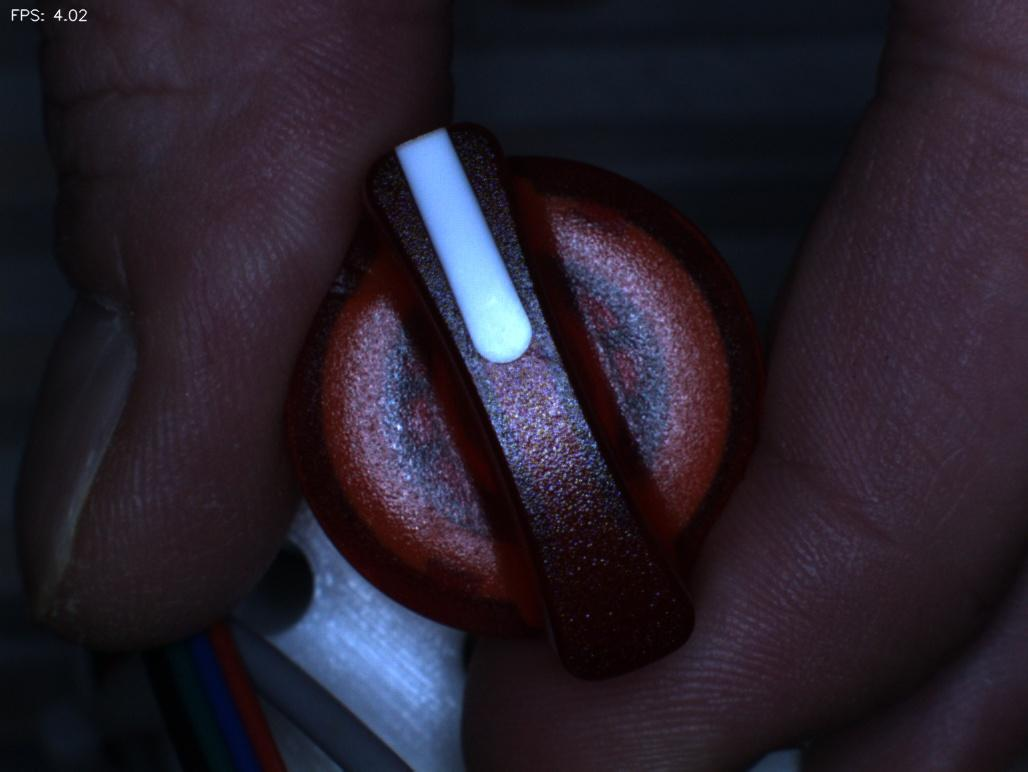Choc: (300, 238, 384, 317)
